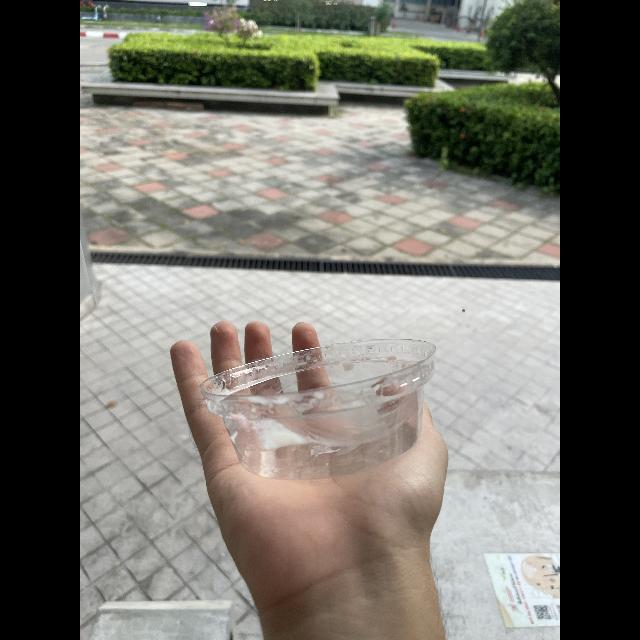plastic_cup_lid: (196, 332, 438, 484)
